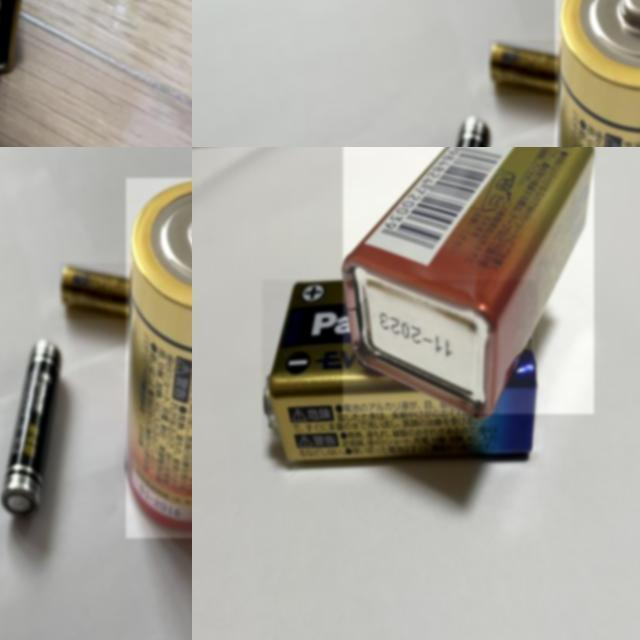9V: (343, 147, 594, 414), (262, 280, 538, 460)
